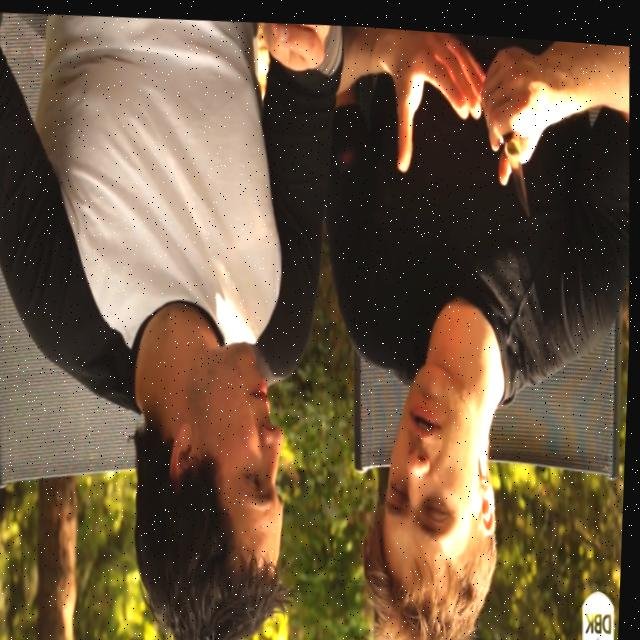knife: (500, 123, 535, 212)
